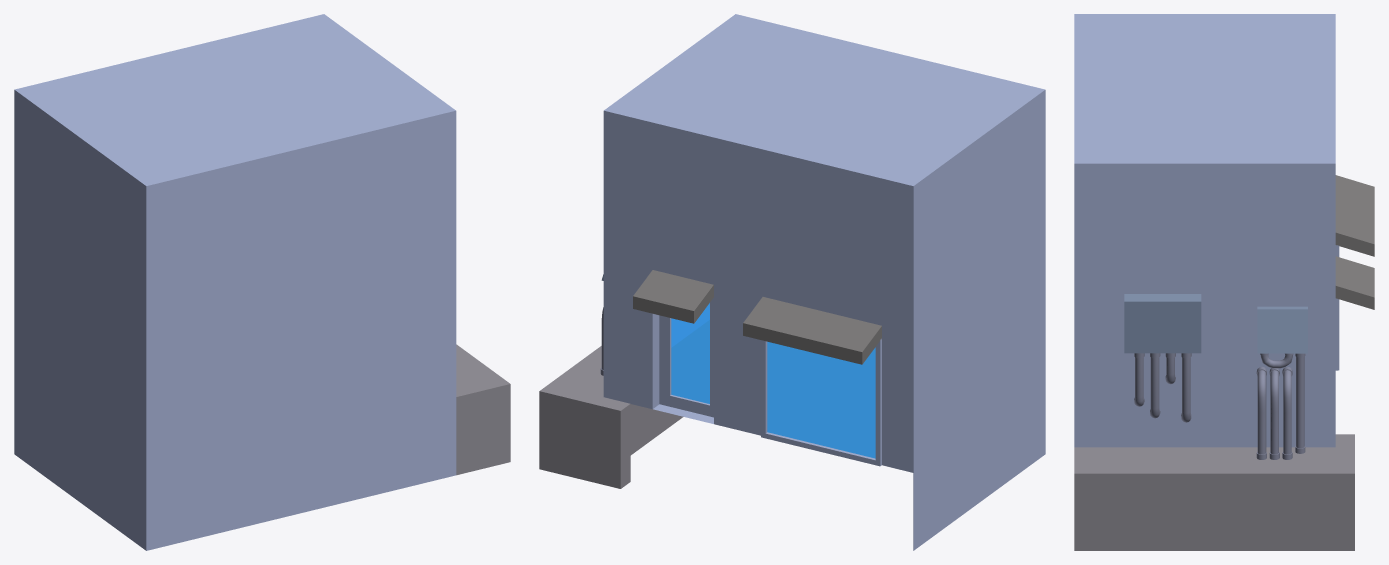
The model's file is Batiment3.001.fbx.
The picture shows the model from 3 angles, left to right: view 1: azimuth 30°, elevation 25°; view 2: azimuth 150°, elevation 25°; view 3: azimuth 270°, elevation 25°; orthographic projection.
Parts seen in each view (by area): view 1: Batiment3.001; view 2: Batiment3.001; view 3: Batiment3.001.
Part boxes in pixels (x1,y1,x2,y2): Batiment3.001: (14, 14, 510, 550); Batiment3.001: (539, 14, 1045, 550); Batiment3.001: (1074, 14, 1374, 550).
Bounding box in the file's own units: 14.62 × 13.99 × 10.55.
